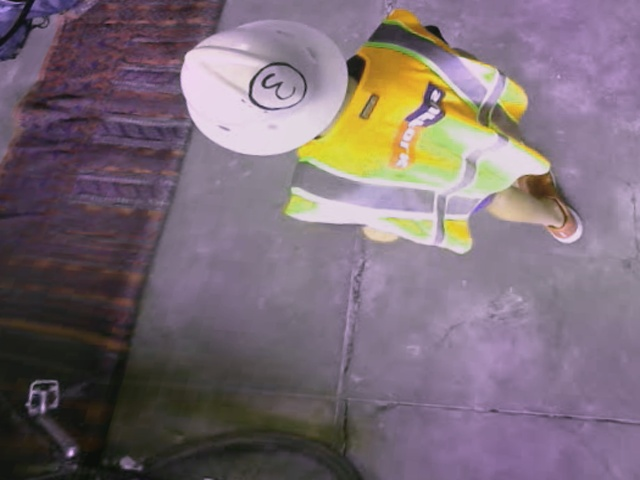three: (241, 59, 312, 114)
